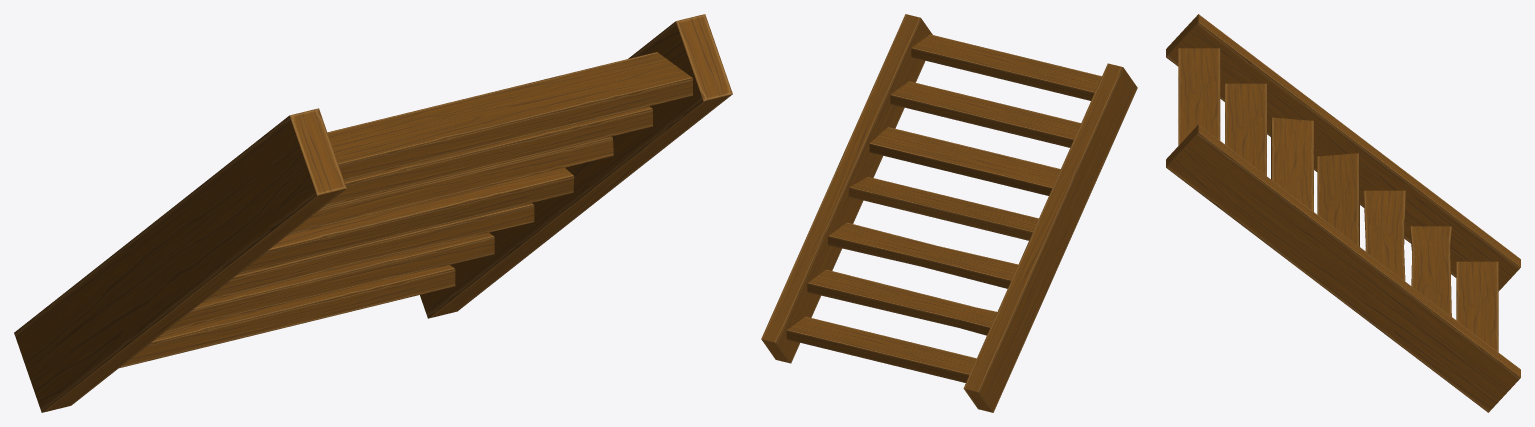
File: SM_Stairs_Interior_B_01.fbx
The picture shows the model from 3 angles, left to right: view 1: azimuth 30°, elevation 25°; view 2: azimuth 150°, elevation 25°; view 3: azimuth 270°, elevation 25°; orthographic projection. The views are drawn at different scales.
Visible parts, largest first — view 1: SM_Stairs_Interior_B_01; view 2: SM_Stairs_Interior_B_01; view 3: SM_Stairs_Interior_B_01.
Part boxes in pixels (x1,y1,x2,y2): SM_Stairs_Interior_B_01: (14, 14, 732, 412); SM_Stairs_Interior_B_01: (761, 14, 1137, 412); SM_Stairs_Interior_B_01: (1166, 14, 1520, 412).
Size of the model in its own units: 2.5 by 2.75 by 3.16.
